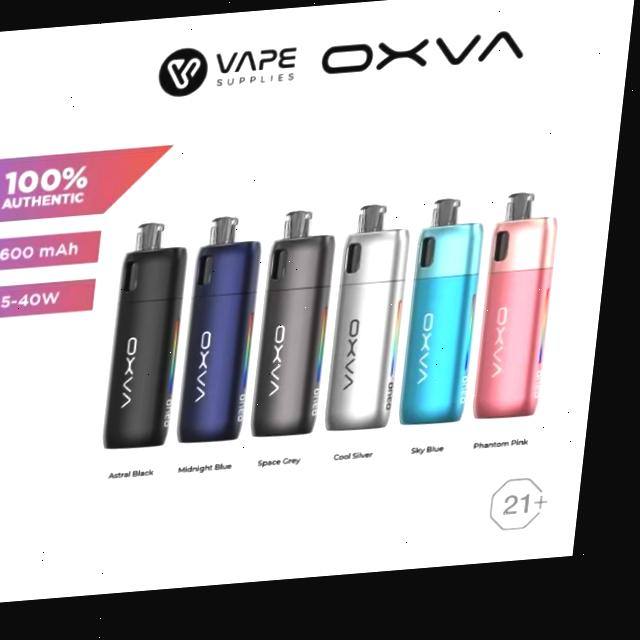vape: (110, 222, 198, 454), (333, 209, 421, 441), (407, 204, 495, 436), (481, 200, 569, 431), (186, 217, 273, 449), (259, 213, 345, 445)
